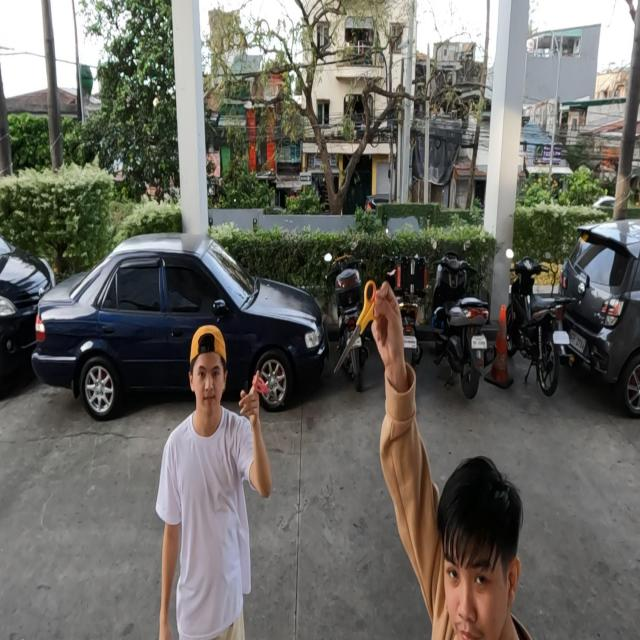scissor: (333, 280, 384, 376), (252, 373, 285, 407)
